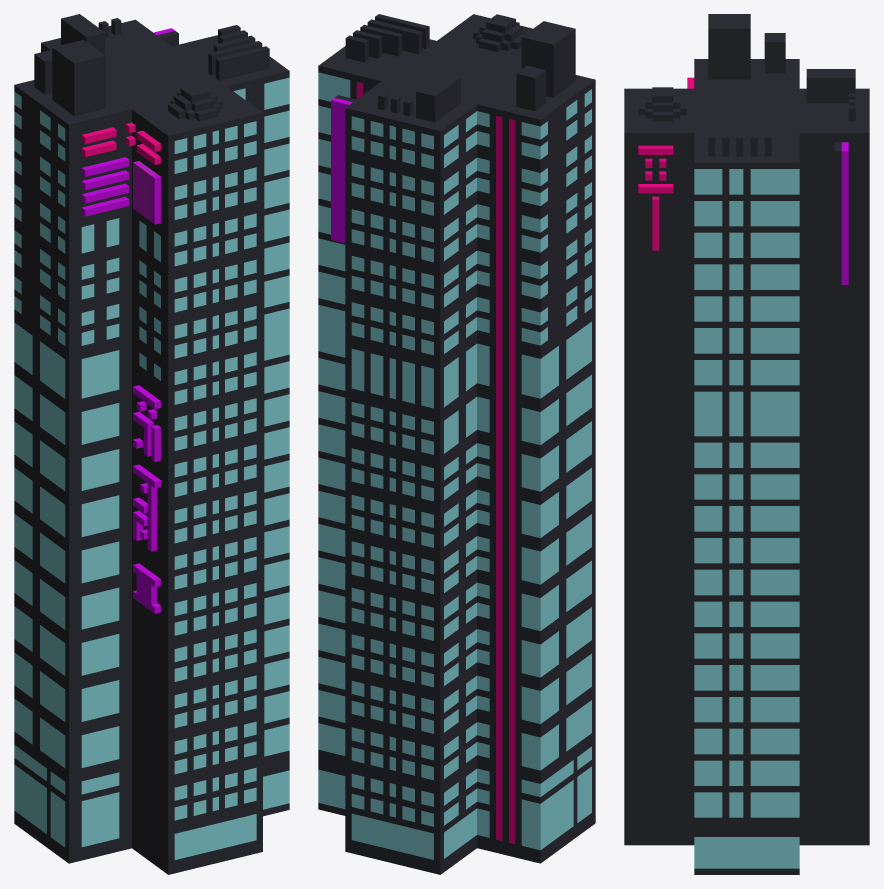
3 renders of one model, left to right at view 1: azimuth 30°, elevation 25°; view 2: azimuth 150°, elevation 25°; view 3: azimuth 270°, elevation 25°, orthographic. The views are drawn at different scales.
Visible parts, largest first — view 1: Cube.12396; view 2: Cube.12396; view 3: Cube.12396.
Part boxes in pixels (x1=…): Cube.12396: x1=14, y1=14, x2=289, y2=874; Cube.12396: x1=318, y1=14, x2=595, y2=874; Cube.12396: x1=624, y1=14, x2=869, y2=874.
Size of the model in its own units: 3500 by 12000 by 3500.
